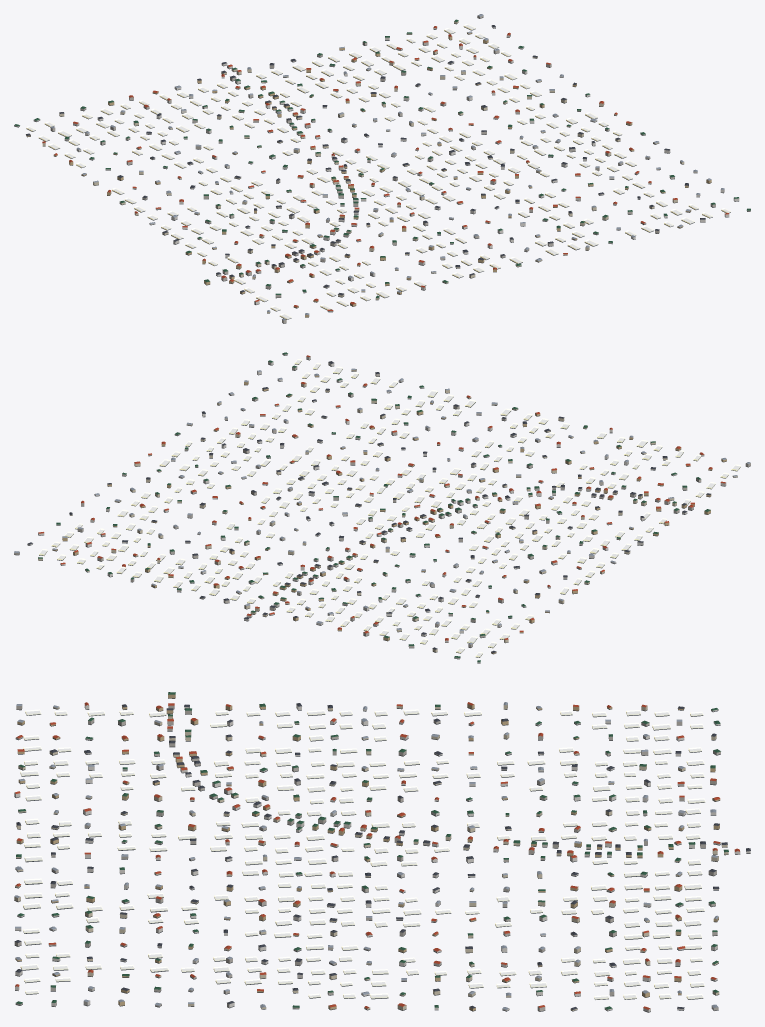
File: buildings_T_E03_S01.glb
3 renders of one model, top to bottom at view 1: azimuth 30°, elevation 25°; view 2: azimuth 150°, elevation 25°; view 3: azimuth 270°, elevation 25°, orthographic. The views are drawn at different scales.
Visible parts, largest first — view 1: T_E03_S01_roofs_agri_greenhouse_arch, T_E03_S01_slope_seating_foundations, T_E03_S01_walls_wall_modern_warm_white, T_E03_S01_walls_wall_pastel_sand_gray, T_E03_S01_walls_wall_dalat_cream_stucco, T_E03_S01_walls_wall_french_ochre_villa, T_E03_S01_roofs_roof_pine_green_hip, T_E03_S01_roofs_roof_terracotta_gable, T_E03_S01_roofs_roof_slate_French_villa_hip, T_E03_S01_roofs_roof_zinc_silver_gable; view 2: T_E03_S01_roofs_agri_greenhouse_arch, T_E03_S01_slope_seating_foundations, T_E03_S01_walls_wall_pastel_sand_gray, T_E03_S01_walls_wall_modern_warm_white, T_E03_S01_walls_wall_french_ochre_villa, T_E03_S01_walls_wall_dalat_cream_stucco, T_E03_S01_roofs_roof_pine_green_hip, T_E03_S01_roofs_roof_terracotta_gable, T_E03_S01_roofs_roof_slate_French_villa_hip, T_E03_S01_roofs_roof_zinc_silver_gable; view 3: T_E03_S01_roofs_agri_greenhouse_arch, T_E03_S01_slope_seating_foundations, T_E03_S01_walls_wall_modern_warm_white, T_E03_S01_walls_wall_pastel_sand_gray, T_E03_S01_walls_wall_french_ochre_villa, T_E03_S01_walls_wall_dalat_cream_stucco, T_E03_S01_roofs_roof_pine_green_hip, T_E03_S01_roofs_roof_terracotta_gable, T_E03_S01_roofs_roof_slate_French_villa_hip, T_E03_S01_roofs_roof_zinc_silver_gable.
Part boxes in pixels (box(x1,y1,x2,y2)): T_E03_S01_roofs_agri_greenhouse_arch: box(26, 24, 730, 319); T_E03_S01_slope_seating_foundations: box(14, 17, 750, 323); T_E03_S01_walls_wall_modern_warm_white: box(14, 26, 739, 304); T_E03_S01_walls_wall_pastel_sand_gray: box(50, 15, 750, 323); T_E03_S01_walls_wall_dalat_cream_stucco: box(42, 21, 684, 313); T_E03_S01_walls_wall_french_ochre_villa: box(26, 32, 711, 317); T_E03_S01_roofs_roof_pine_green_hip: box(14, 19, 750, 297); T_E03_S01_roofs_roof_terracotta_gable: box(42, 26, 728, 310); T_E03_S01_roofs_roof_slate_French_villa_hip: box(26, 25, 705, 295); T_E03_S01_roofs_roof_zinc_silver_gable: box(50, 14, 724, 320); T_E03_S01_roofs_agri_greenhouse_arch: box(39, 359, 740, 657); T_E03_S01_slope_seating_foundations: box(14, 354, 750, 663); T_E03_S01_walls_wall_pastel_sand_gray: box(14, 353, 750, 647); T_E03_S01_walls_wall_modern_warm_white: box(27, 356, 726, 663); T_E03_S01_walls_wall_french_ochre_villa: box(52, 369, 726, 653); T_E03_S01_walls_wall_dalat_cream_stucco: box(38, 383, 737, 652); T_E03_S01_roofs_roof_pine_green_hip: box(38, 352, 710, 662); T_E03_S01_roofs_roof_terracotta_gable: box(38, 355, 725, 640); T_E03_S01_roofs_roof_slate_French_villa_hip: box(27, 361, 710, 652); T_E03_S01_roofs_roof_zinc_silver_gable: box(14, 368, 750, 644); T_E03_S01_roofs_agri_greenhouse_arch: box(20, 709, 705, 999); T_E03_S01_slope_seating_foundations: box(14, 698, 750, 1012); T_E03_S01_walls_wall_modern_warm_white: box(14, 704, 750, 1012); T_E03_S01_walls_wall_pastel_sand_gray: box(14, 704, 720, 1011); T_E03_S01_walls_wall_french_ochre_villa: box(15, 694, 720, 1010); T_E03_S01_walls_wall_dalat_cream_stucco: box(14, 704, 728, 1010); T_E03_S01_roofs_roof_pine_green_hip: box(16, 692, 728, 1009); T_E03_S01_roofs_roof_terracotta_gable: box(15, 702, 739, 1009); T_E03_S01_roofs_roof_slate_French_villa_hip: box(14, 703, 750, 1009); T_E03_S01_roofs_roof_zinc_silver_gable: box(14, 702, 718, 1009).
Bounding box in the file's own units: 1854 × 36.2 × 1866.
